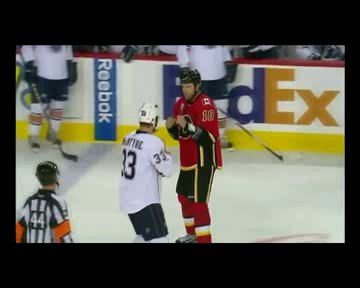normal: (104, 61, 227, 243)
